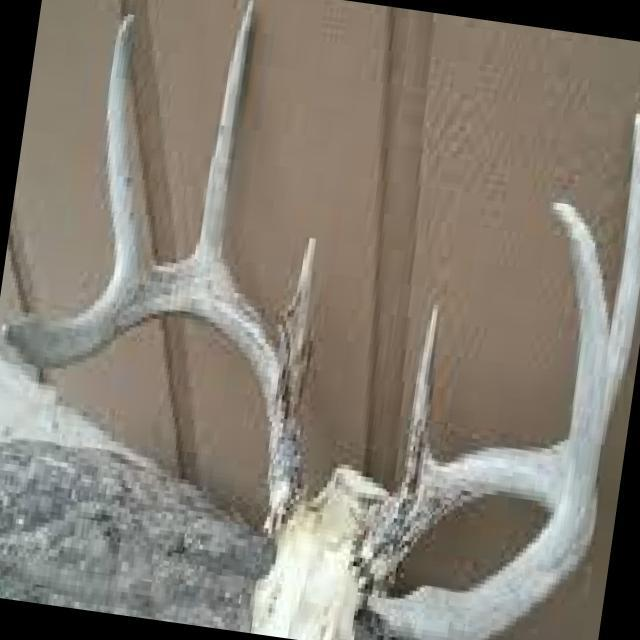L-F: (362, 445, 597, 640)
L-G1: (401, 298, 440, 482)
L-G3: (549, 199, 608, 534)
R-F: (0, 258, 304, 540)
R-G1: (269, 235, 318, 406)
R-G2: (190, 0, 255, 264)
R-G3: (106, 12, 157, 278)
